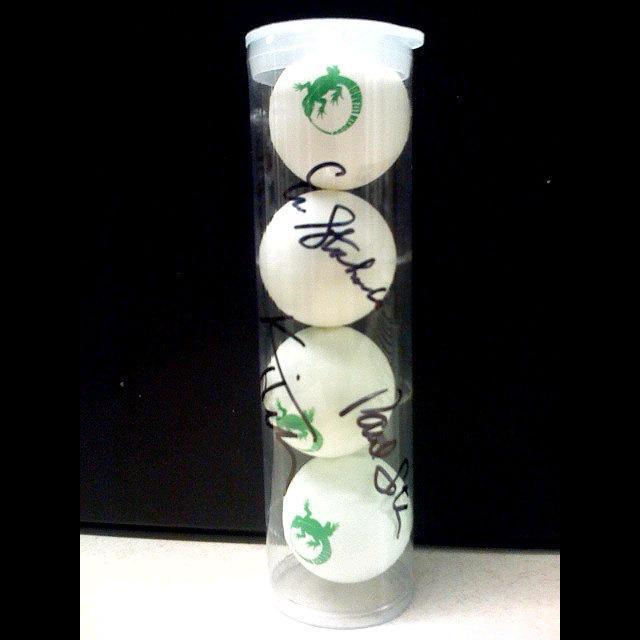ping-pong-ball: (268, 42, 418, 195), (256, 190, 400, 327), (261, 322, 397, 461), (280, 452, 413, 584)
